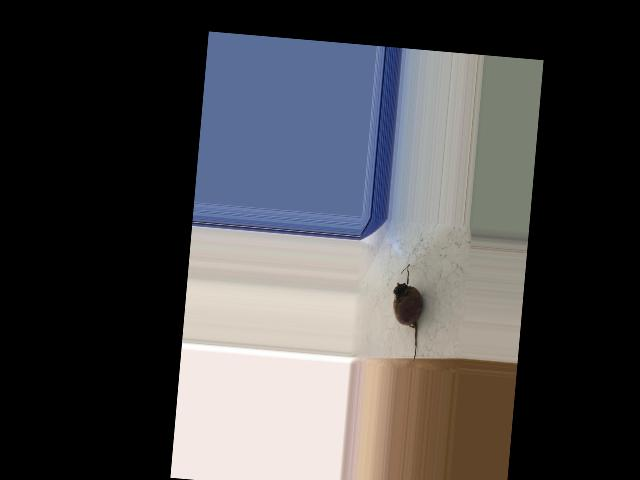beet: (388, 263, 425, 362)
